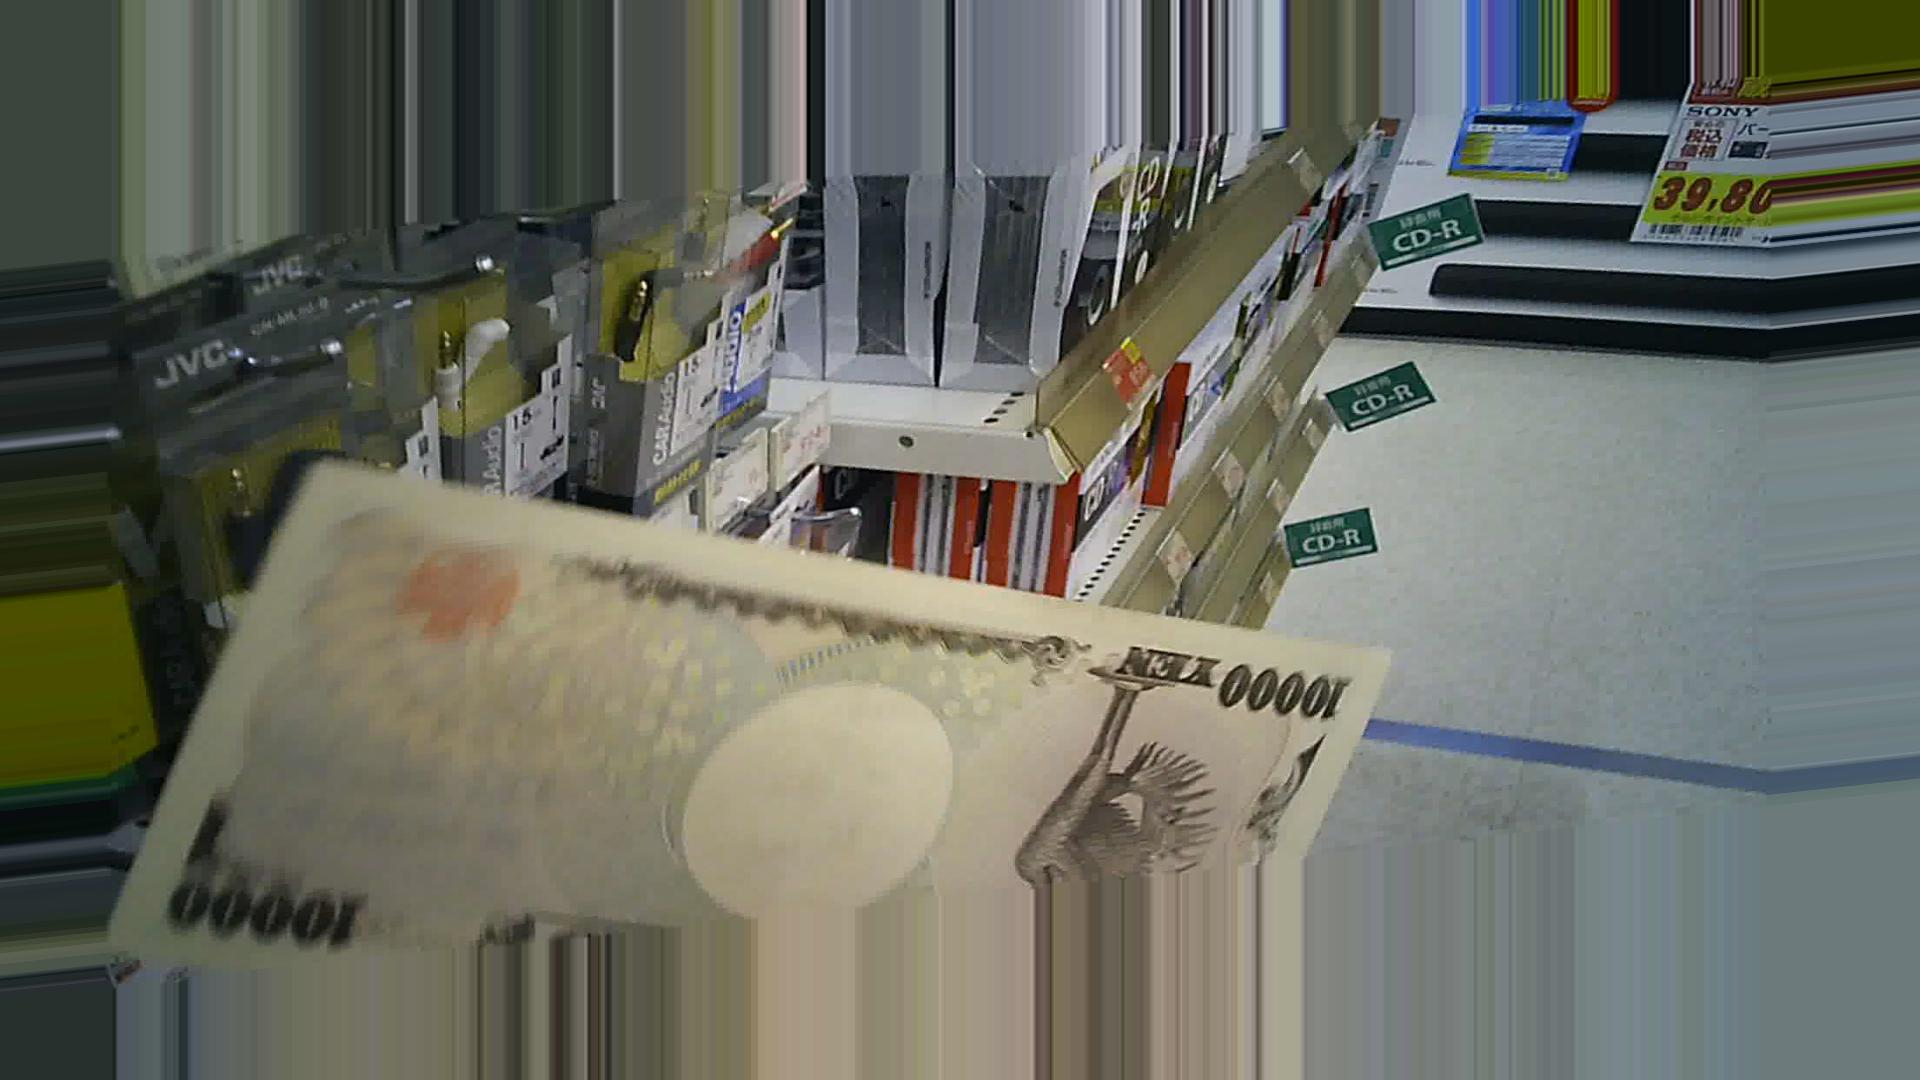10,000 Yen: (124, 425, 1370, 965)
